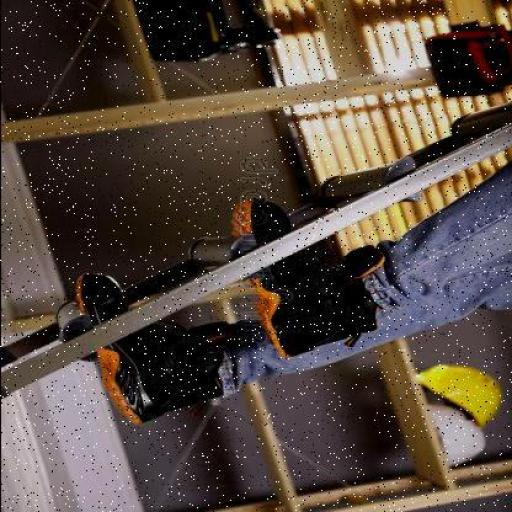safety_shoe: (76, 278, 218, 421), (245, 195, 361, 363)
